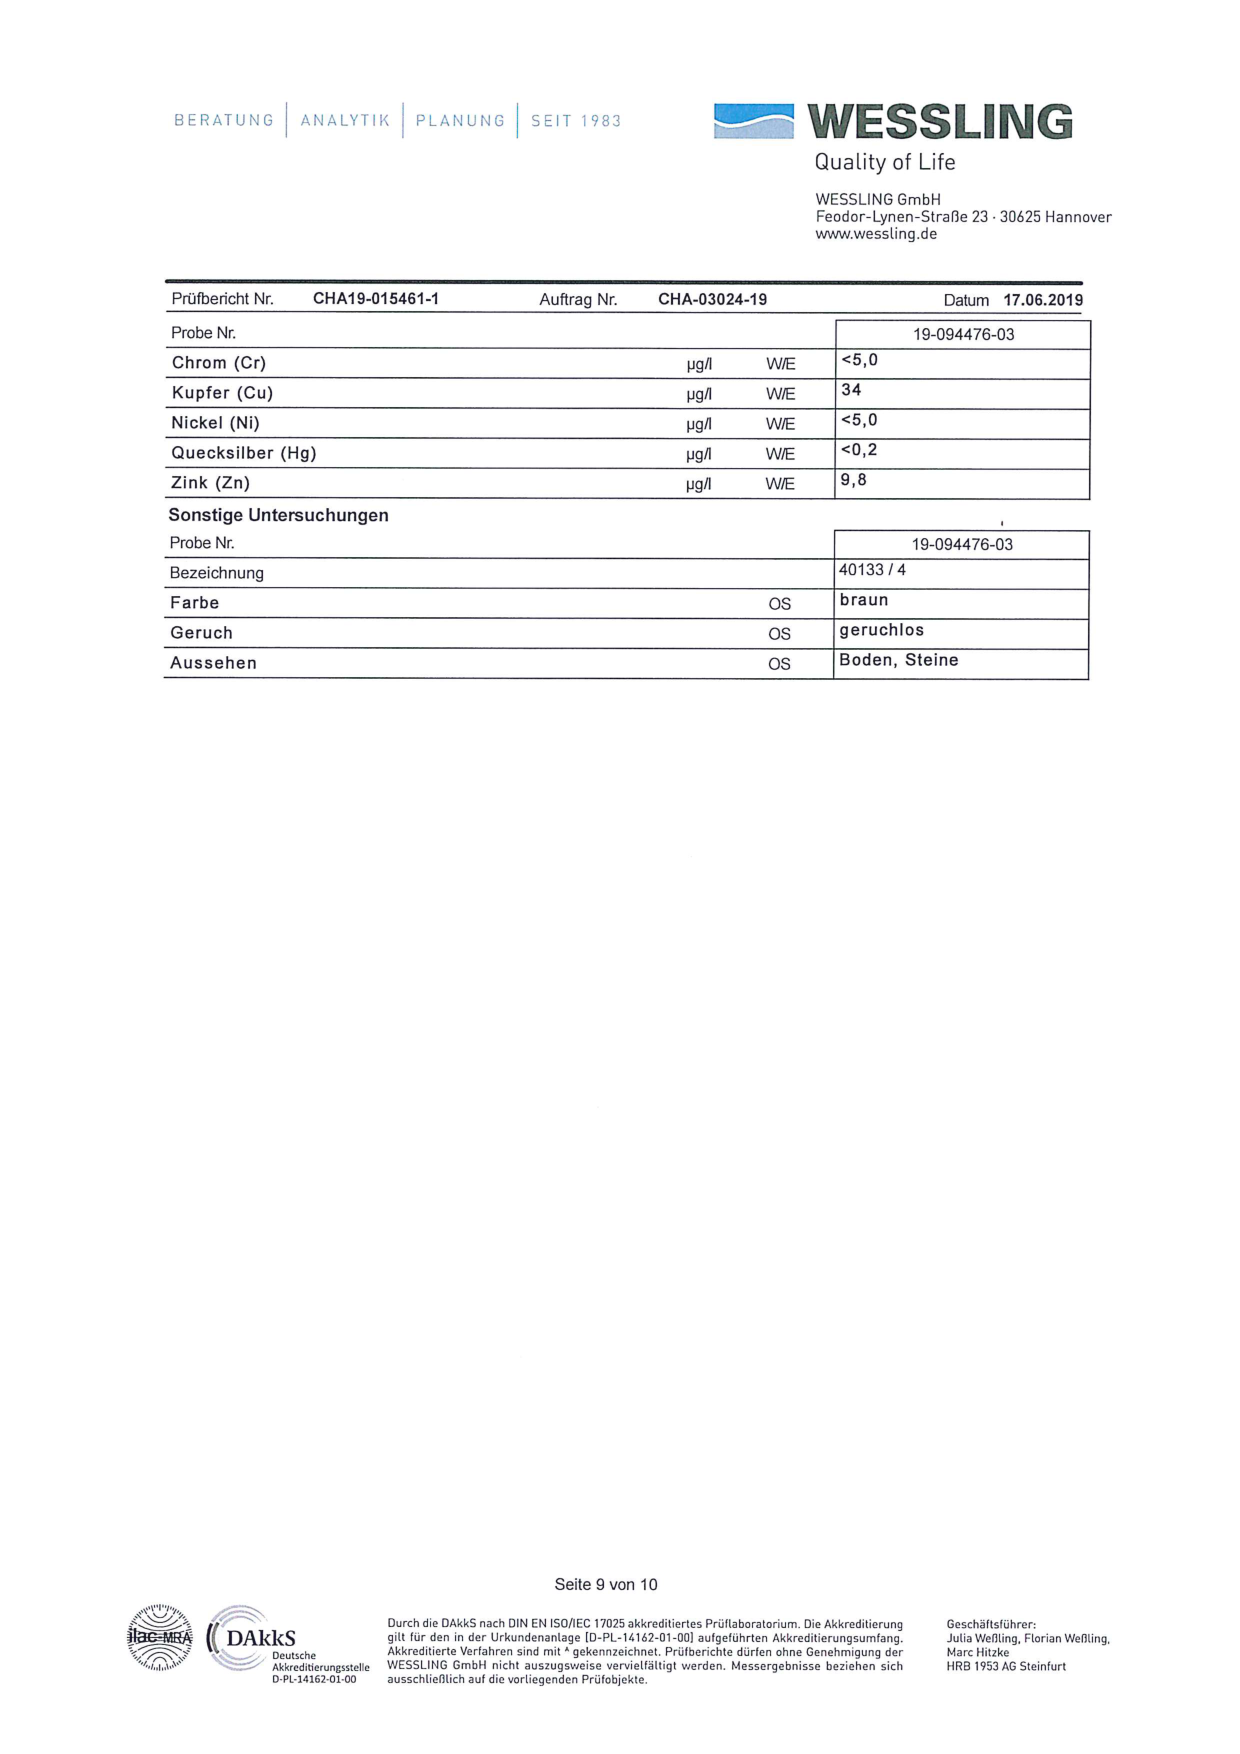table: (146, 321, 1110, 505), (146, 529, 1100, 695)
